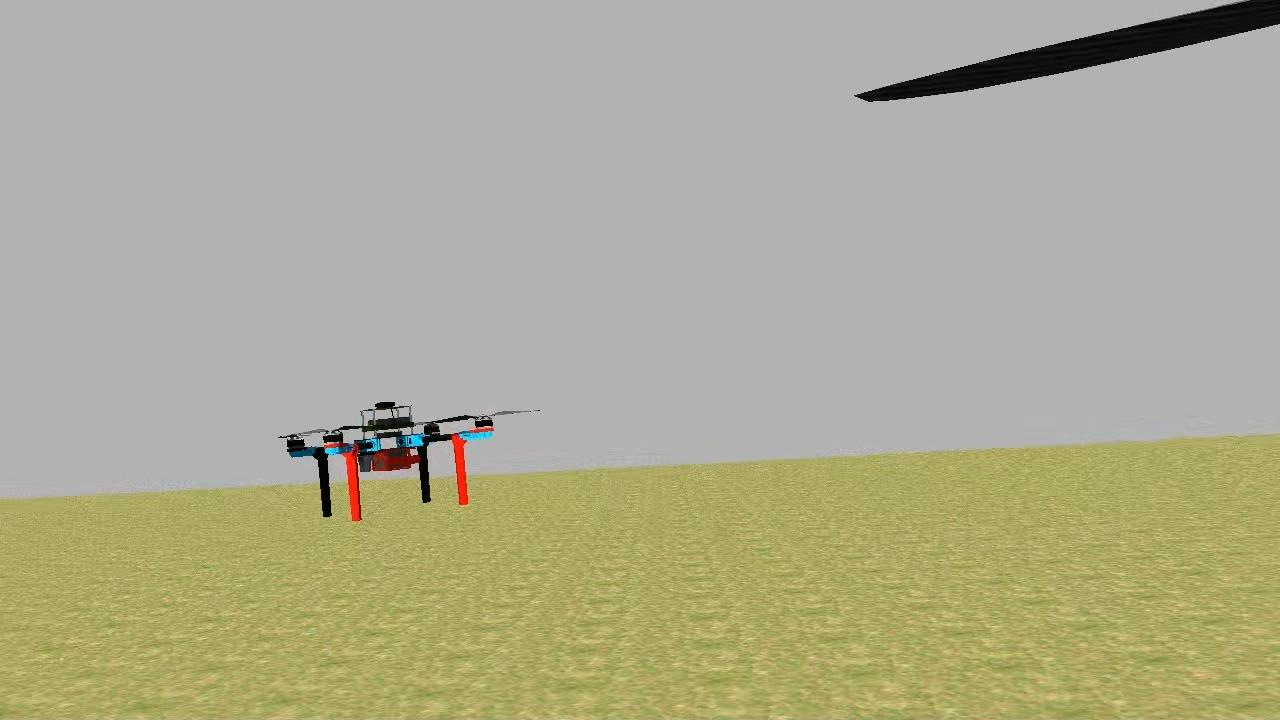UAV: (278, 396, 500, 520)
